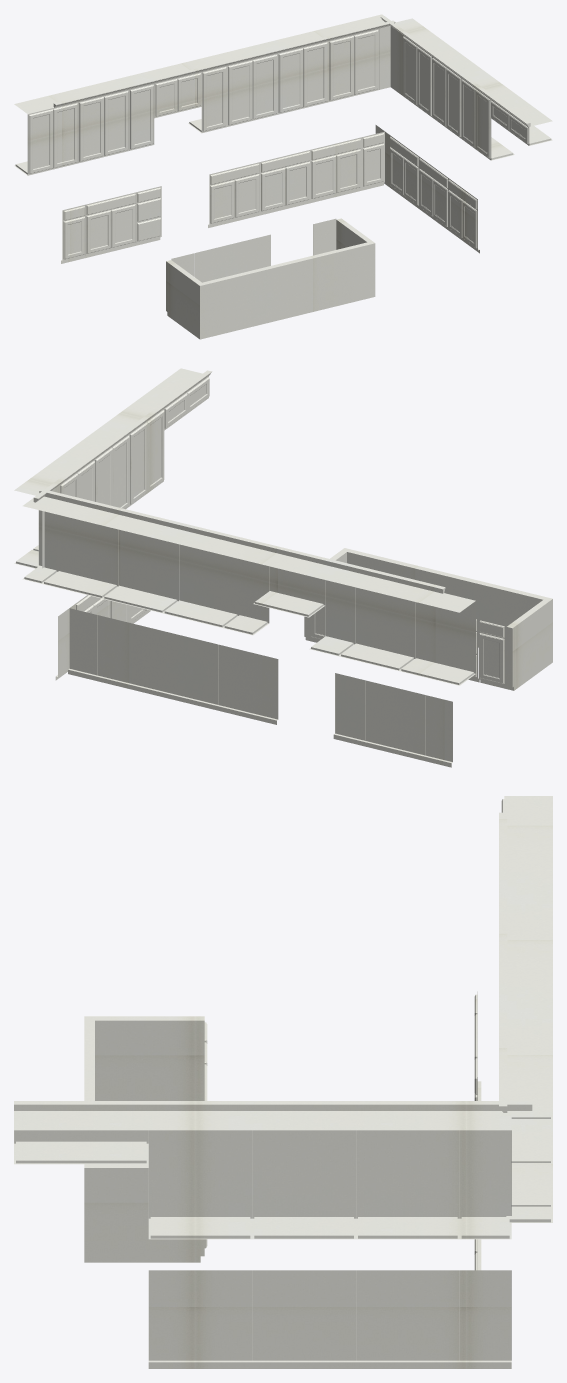
The model's file is 1989_kitchen_cabinets_linen.gltf.
3 views of the same model, one above another, from view 1: azimuth 30°, elevation 25°; view 2: azimuth 150°, elevation 25°; view 3: azimuth 270°, elevation 25° (orthographic). The views are drawn at different scales.
Parts seen in each view (by area): view 1: Cabinet_linen.001; view 2: Cabinet_linen.001; view 3: Cabinet_linen.001.
Boxes of the visible parts, left/top/right/bottom form: Cabinet_linen.001: left=14, top=14, right=552, bottom=339; Cabinet_linen.001: left=14, top=368, right=552, bottom=767; Cabinet_linen.001: left=14, top=796, right=552, bottom=1368.
Bounding box in the file's own units: 7.63 × 2.93 × 5.2.
1 material, 1 textured.
